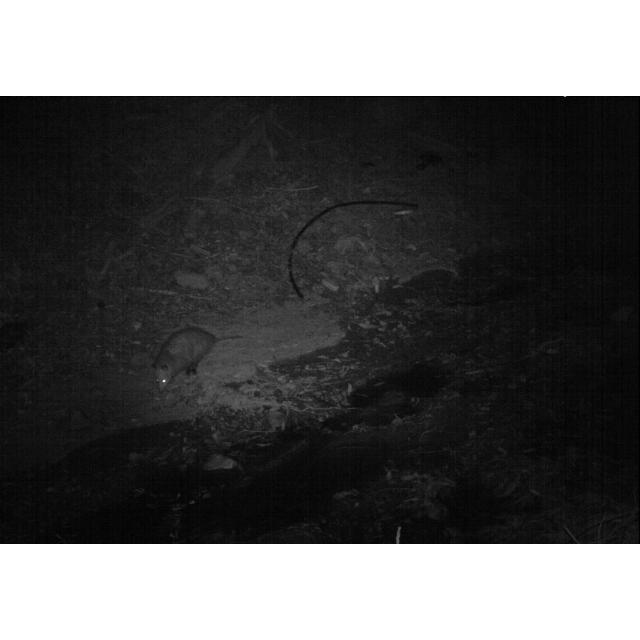animals: (152, 326, 242, 394)
